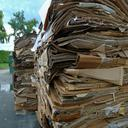cardboard: (32, 0, 127, 127), (33, 6, 127, 45), (35, 84, 127, 120), (37, 0, 127, 27), (11, 35, 36, 109), (51, 72, 127, 95), (33, 109, 127, 127), (63, 67, 127, 84), (56, 34, 127, 47), (35, 45, 76, 65), (76, 55, 127, 68), (13, 88, 36, 109), (12, 67, 36, 87), (13, 36, 35, 48), (7, 51, 15, 71)
